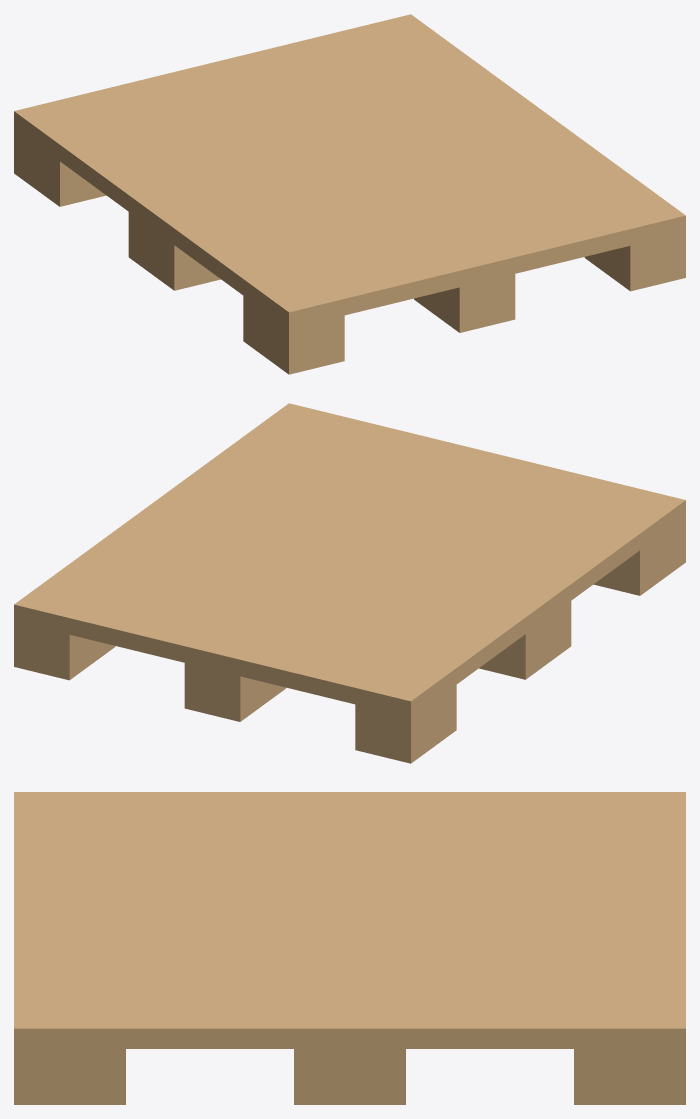
The model's file is Prop_Junk_Pallet_Wooden_01.FBX.
3 views of the same model, one above another, from view 1: azimuth 30°, elevation 25°; view 2: azimuth 150°, elevation 25°; view 3: azimuth 270°, elevation 25° (orthographic). The views are drawn at different scales.
Parts seen in each view (by area): view 1: Prop_Junk_Pallet_Wooden_01; view 2: Prop_Junk_Pallet_Wooden_01; view 3: Prop_Junk_Pallet_Wooden_01.
Part boxes in pixels (x1=…): Prop_Junk_Pallet_Wooden_01: x1=14, y1=14, x2=685, y2=374; Prop_Junk_Pallet_Wooden_01: x1=14, y1=403, x2=685, y2=763; Prop_Junk_Pallet_Wooden_01: x1=14, y1=792, x2=685, y2=1104.
Size of the model in its own units: 1191 by 179 by 1430.
